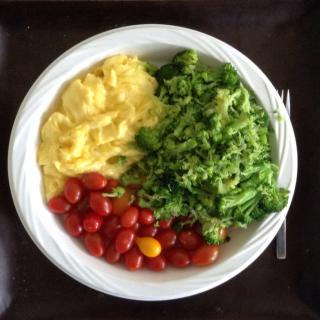Broccoli: (122, 48, 292, 245), (100, 184, 127, 198)
Salad: (37, 47, 290, 276)
Tomato: (47, 173, 226, 271), (116, 209, 139, 227)
